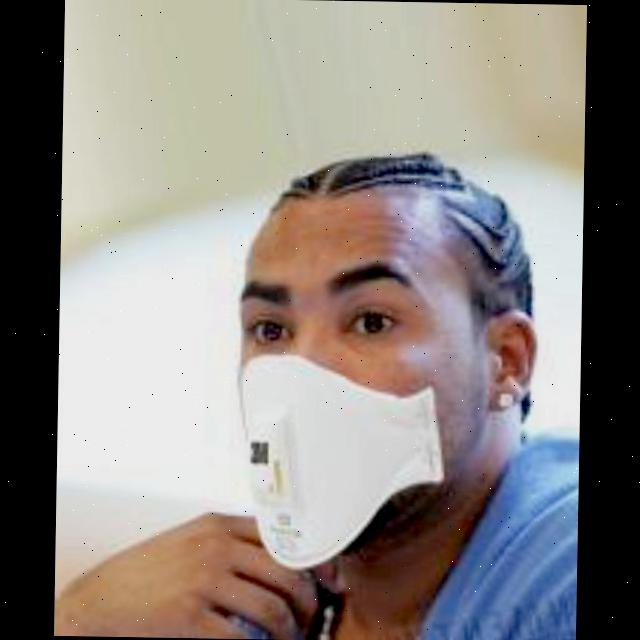suspicion: (183, 132, 495, 524)
